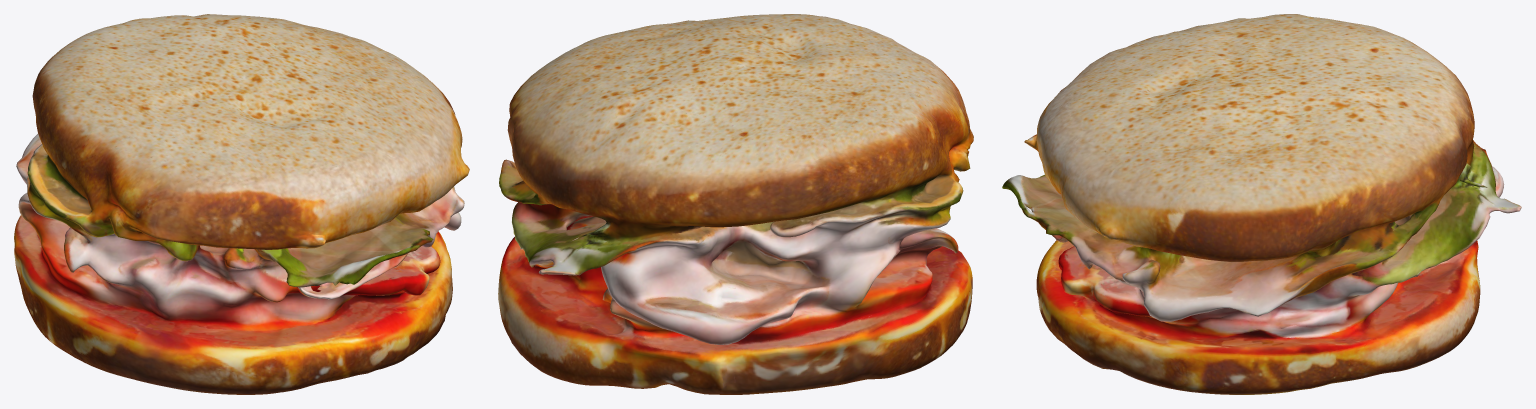
Rendered from Sandwoch.glb.
The picture shows the model from 3 angles, left to right: view 1: azimuth 30°, elevation 25°; view 2: azimuth 150°, elevation 25°; view 3: azimuth 270°, elevation 25°; orthographic projection. The views are drawn at different scales.
Bounding box in the file's own units: 1.74 × 1.02 × 2.01.
1 material, 1 textured.
